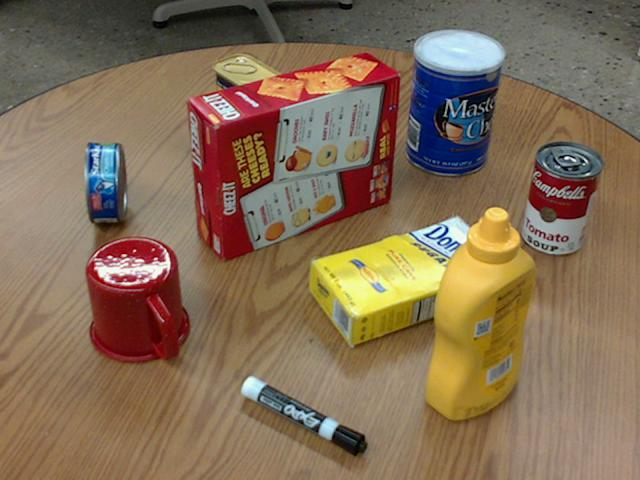cracker_box: (187, 51, 397, 260)
gelatin_box: (308, 68, 389, 122)
large_marker: (241, 377, 366, 454)
master_chef_can: (404, 29, 503, 174)
mug: (86, 236, 190, 362)
mustard_bottle: (426, 207, 534, 419)
potted_meat_can: (213, 53, 289, 149)
sugar_box: (308, 218, 508, 344)
tomato_soup_can: (522, 141, 602, 254)
tuna_fish_can: (85, 143, 125, 223)
